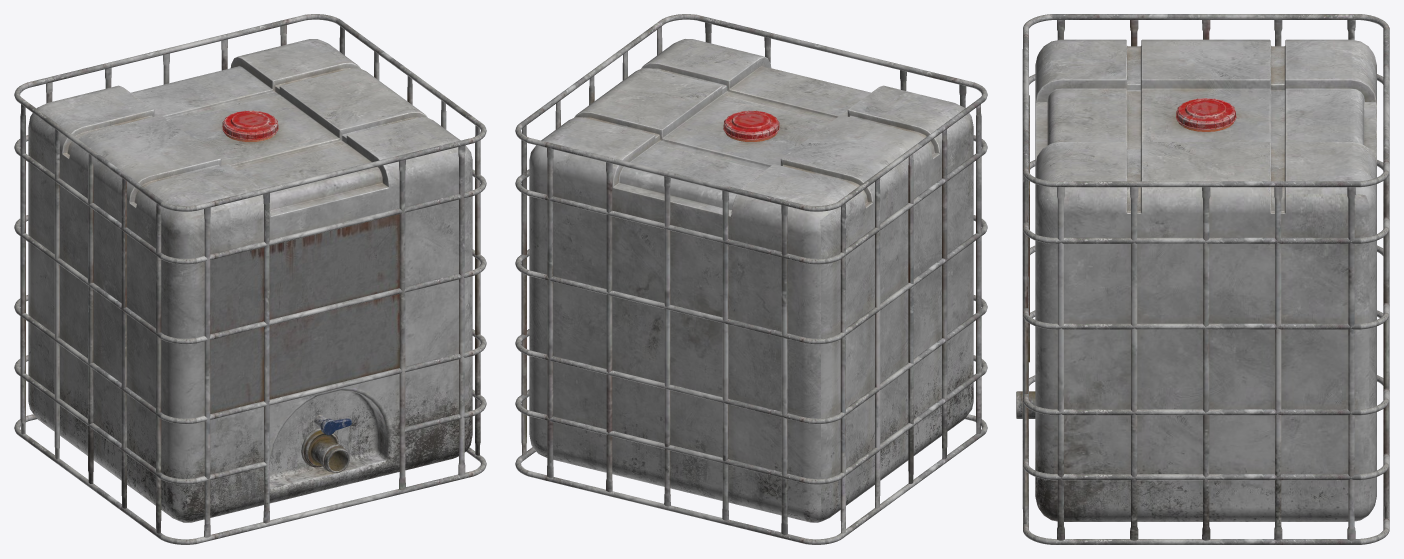
Rendered from SM_Portable_Water_Tank.glb.
3 views of the same model, side by side, from view 1: azimuth 30°, elevation 25°; view 2: azimuth 150°, elevation 25°; view 3: azimuth 270°, elevation 25° (orthographic). The views are drawn at different scales.
Parts seen in each view (by area): view 1: SM_Portable_Water_Tank; view 2: SM_Portable_Water_Tank; view 3: SM_Portable_Water_Tank.
Boxes of the visible parts, box(x1,y1,x2,y2) form: SM_Portable_Water_Tank: box(14, 14, 486, 544); SM_Portable_Water_Tank: box(515, 14, 987, 544); SM_Portable_Water_Tank: box(1016, 14, 1389, 544).
Bounding box in the file's own units: 1.15 × 1.14 × 1.06.
1 material, 1 textured.
